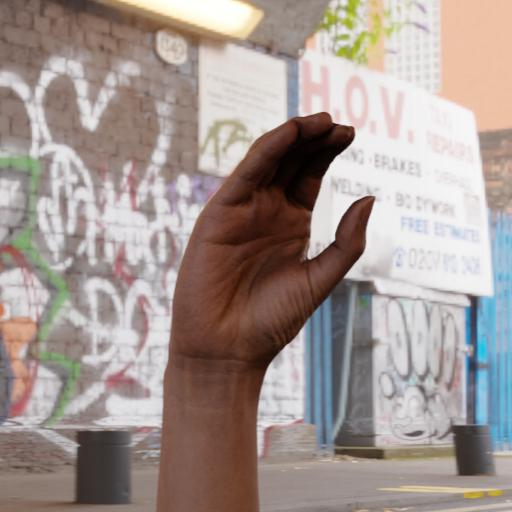C: (138, 100, 385, 475)
